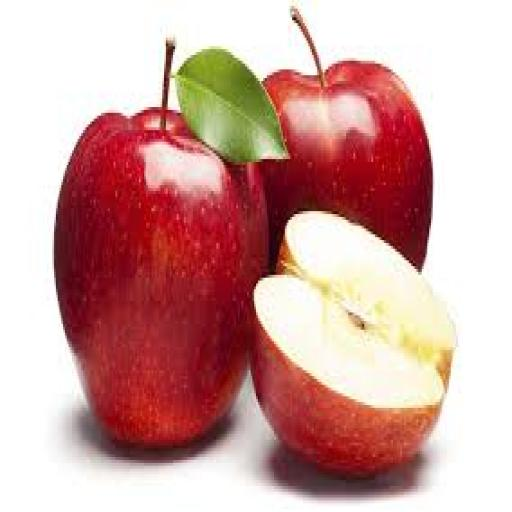apple: (55, 108, 266, 445), (251, 212, 456, 477), (260, 9, 432, 269)
